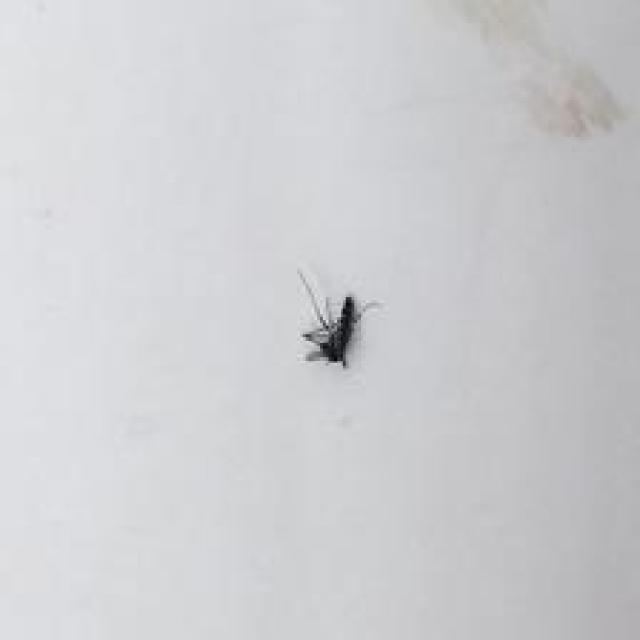Aedes albopictus: (294, 267, 380, 370)
